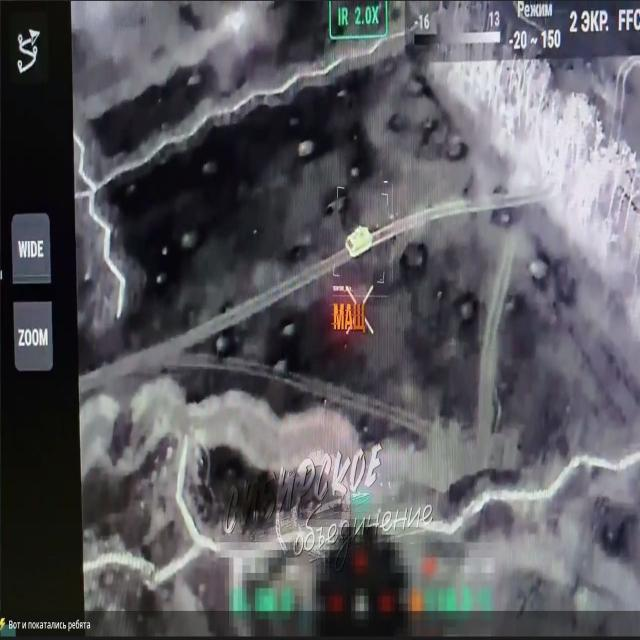vehicle: (336, 218, 380, 266), (290, 131, 316, 166)
